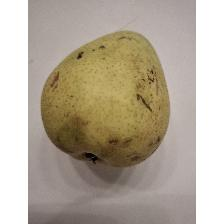Birne: (38, 26, 172, 170)
